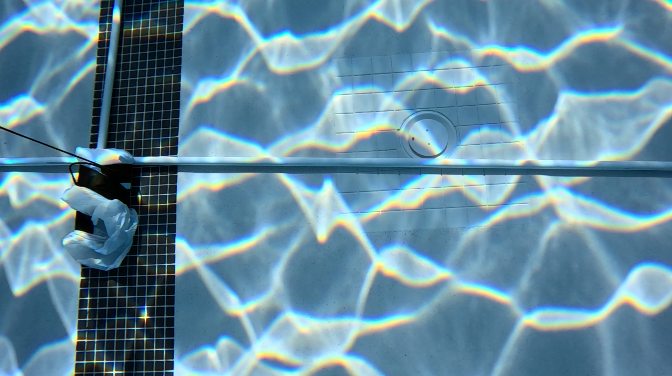sandbag: (71, 148, 139, 268)
